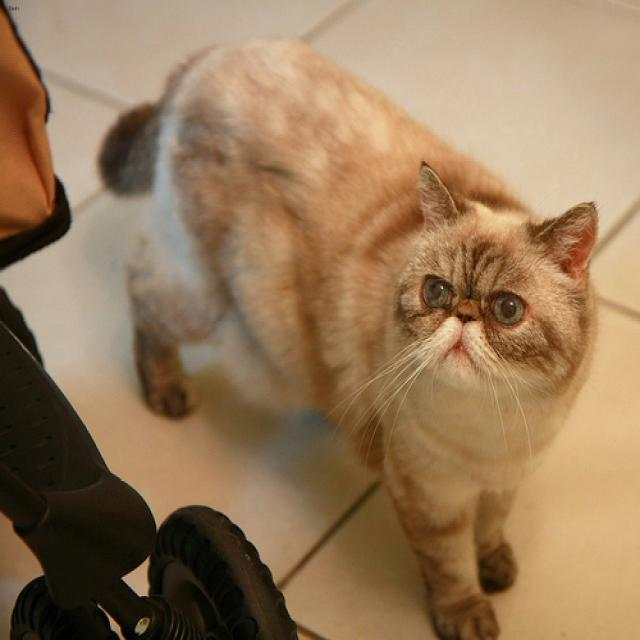cat: (397, 158, 596, 388)
